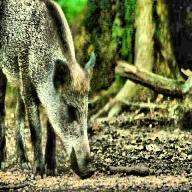boar: (0, 0, 109, 192)
